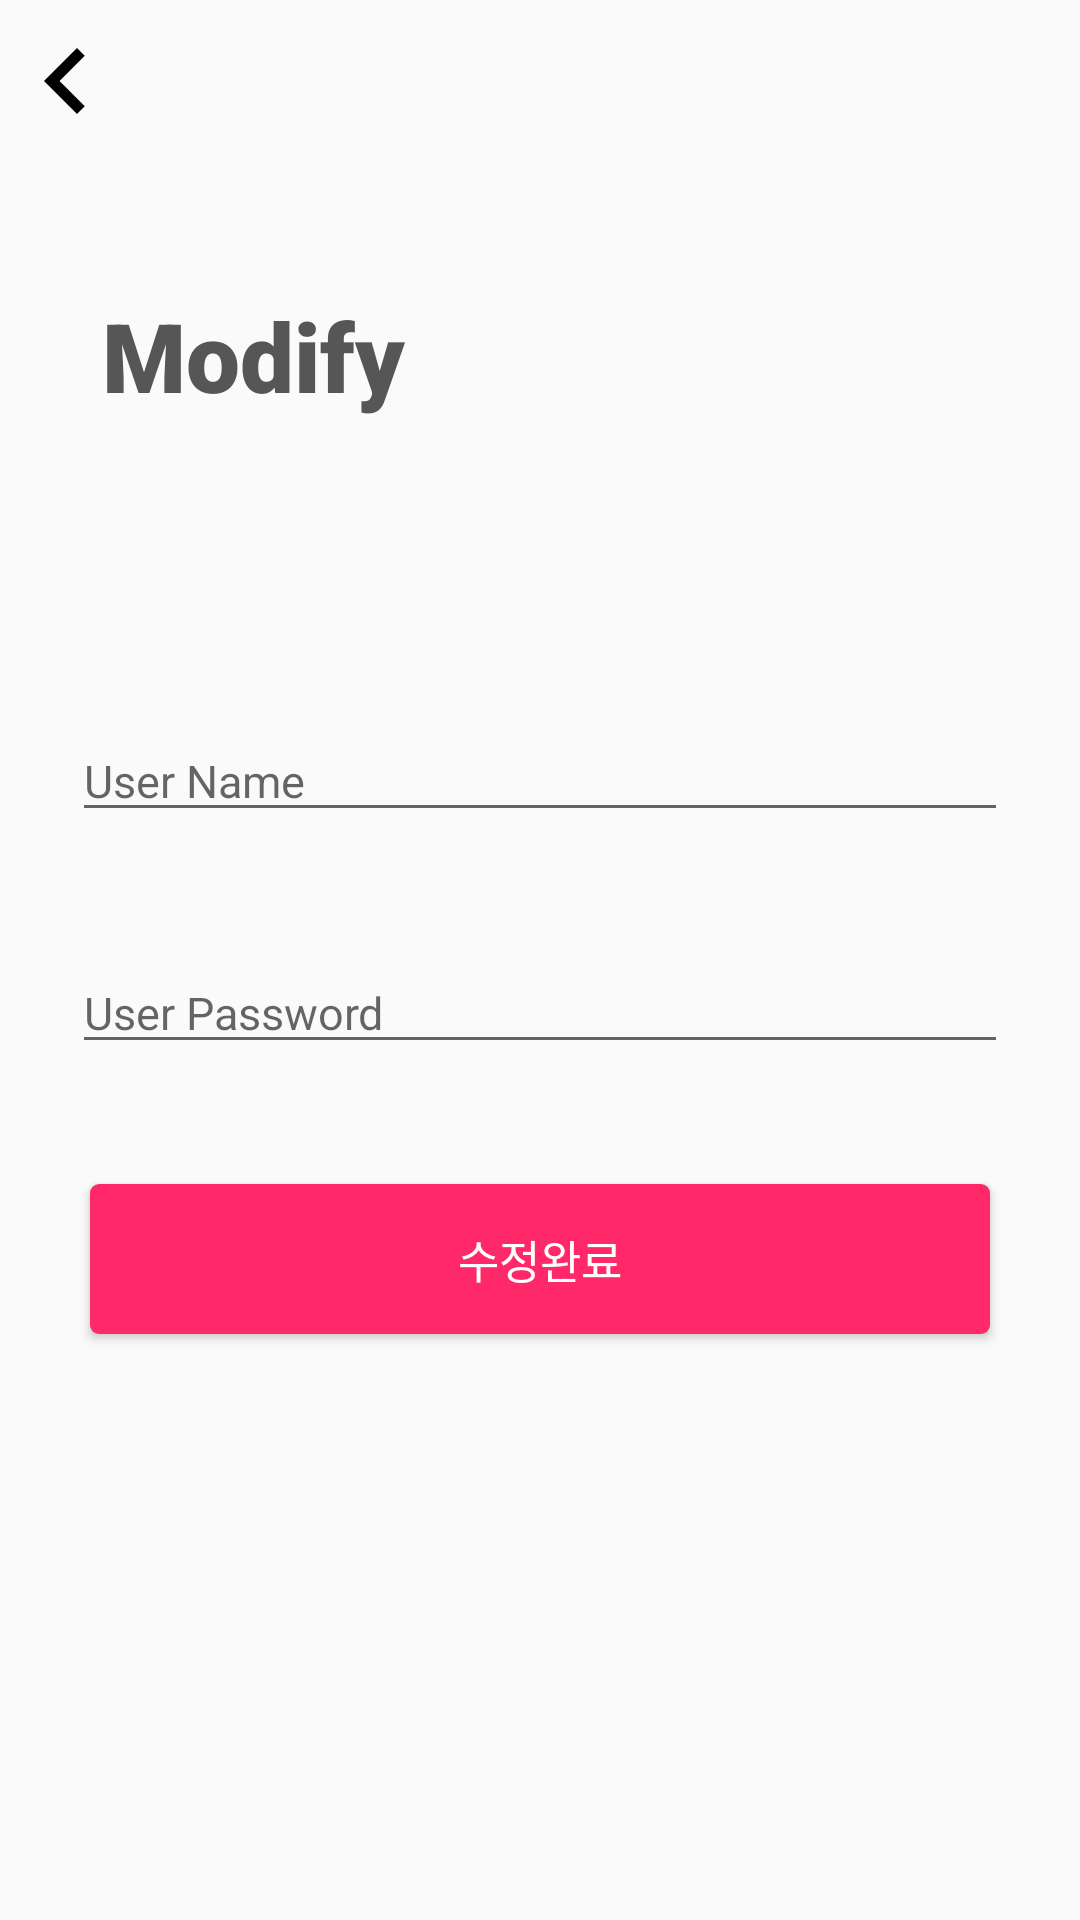

Named icons in this screenshot (1080*1920) and their bounding boxes, (x1, y1, x2, y2):
chevron left: (44, 48, 85, 114)
